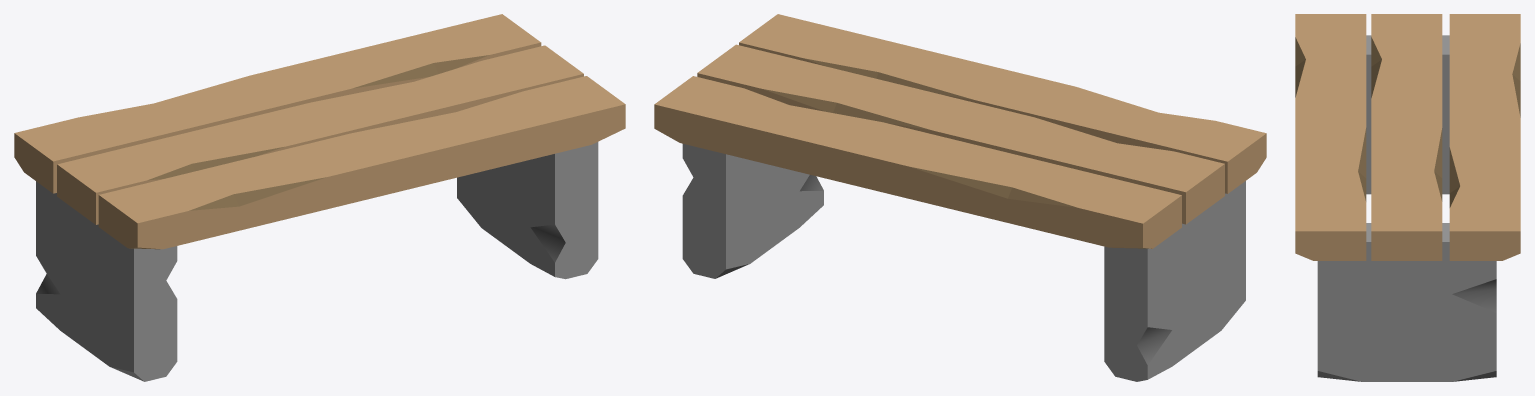
The model's file is Bench.fbx.
3 renders of one model, left to right at view 1: azimuth 30°, elevation 25°; view 2: azimuth 150°, elevation 25°; view 3: azimuth 270°, elevation 25°, orthographic. The views are drawn at different scales.
Parts seen in each view (by area): view 1: polySurface9, polySurface15 (×2), polySurface6, polySurface4, polySurface14; view 2: polySurface6, polySurface15 (×2), polySurface4, polySurface9, polySurface14; view 3: polySurface15 (×2), polySurface4, polySurface6, polySurface9, polySurface14, polySurface19.
Part boxes in pixels (left/top/right/bottom): polySurface9: left=98, top=76, right=625, bottom=249; polySurface15 (×2): left=36, top=142, right=598, bottom=381; polySurface6: left=14, top=14, right=541, bottom=193; polySurface4: left=57, top=45, right=583, bottom=224; polySurface14: left=530, top=224, right=565, bottom=262; polySurface6: left=654, top=76, right=1181, bottom=248; polySurface15 (×2): left=682, top=144, right=1245, bottom=381; polySurface4: left=697, top=44, right=1224, bottom=224; polySurface9: left=739, top=14, right=1266, bottom=193; polySurface14: left=1137, top=327, right=1171, bottom=365; polySurface15 (×2): left=1317, top=35, right=1496, bottom=381; polySurface4: left=1371, top=14, right=1442, bottom=260; polySurface6: left=1449, top=14, right=1520, bottom=260; polySurface9: left=1295, top=14, right=1366, bottom=260; polySurface14: left=1452, top=279, right=1496, bottom=312; polySurface19: left=1317, top=371, right=1496, bottom=381.
Bounding box in the file's own units: 4.82 × 1.63 × 2.11.
